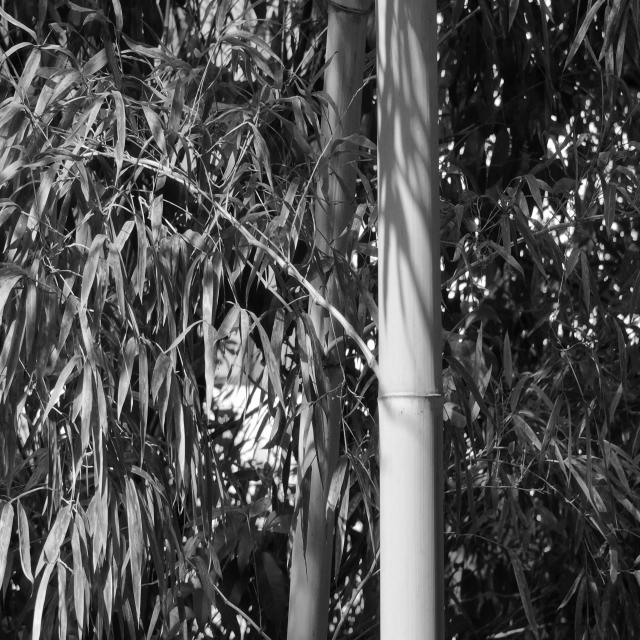Bamboo-shoots: (377, 0, 445, 640)
